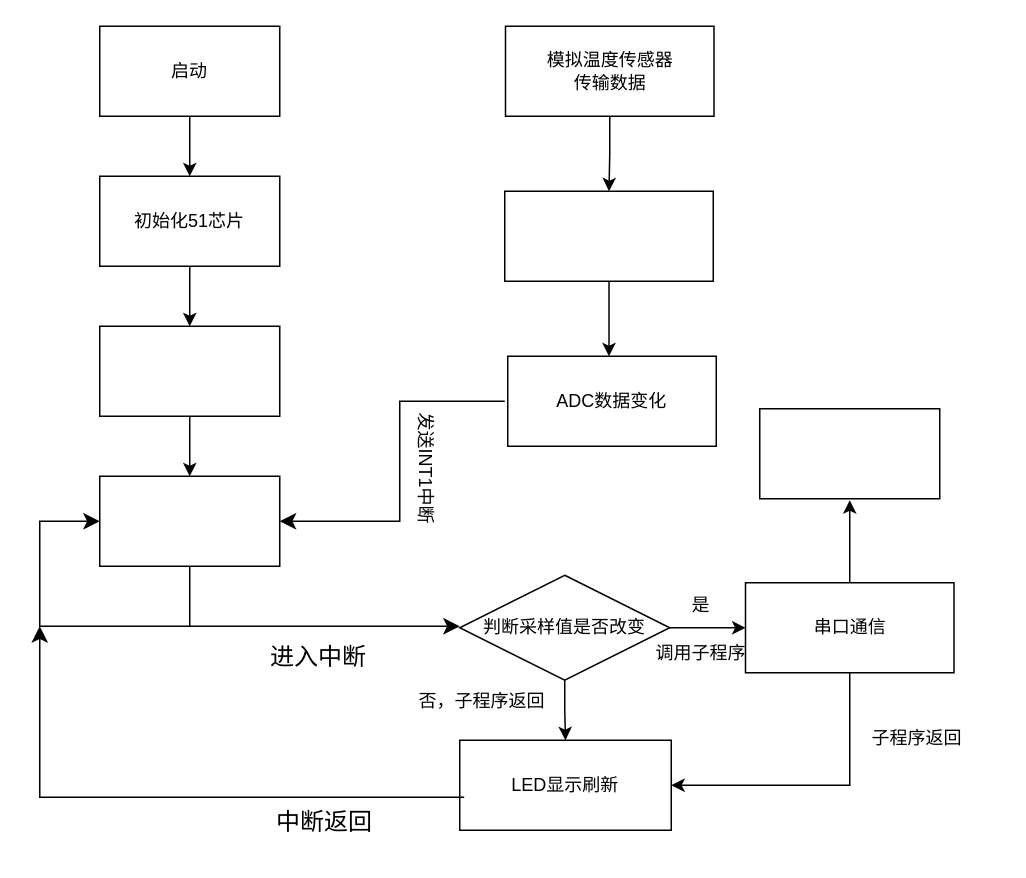
Some shapes in this 1026 by 878 pixel diagram are drawn without their labels. The shapes that lost their labels are listed below. From the top down, each one's centre as x and y in pixels, then its label:
At (x=608, y=235): "ADC工作，转化数据形式".
At (x=189, y=370): "初始化LED，串口通信等模块".
At (x=849, y=453): "虚拟终端接收信息并显示".
At (x=189, y=520): "程序等待 ADC中断输入".
